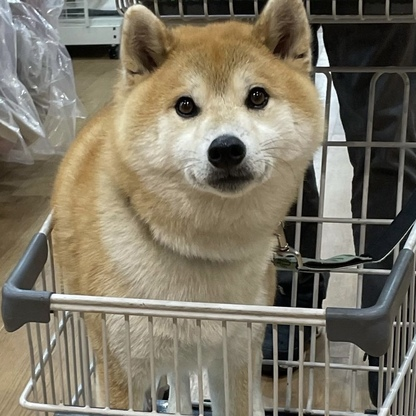shiba: (45, 1, 328, 416)
